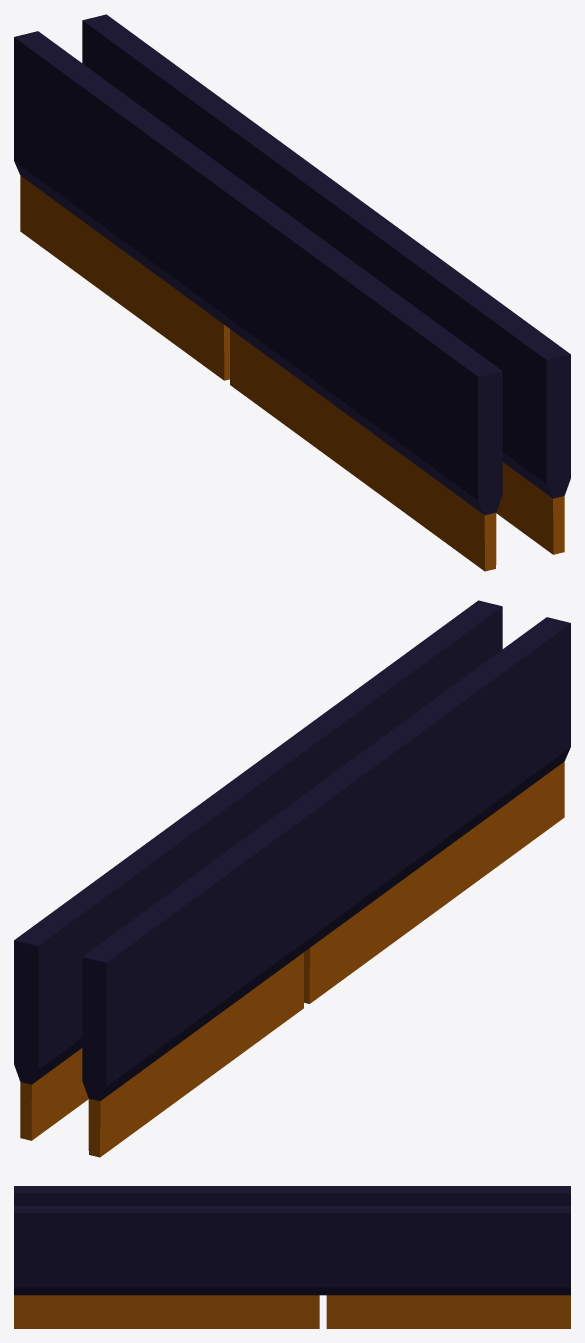
Rendered from Memory.glb.
3 renders of one model, top to bottom at view 1: azimuth 30°, elevation 25°; view 2: azimuth 150°, elevation 25°; view 3: azimuth 270°, elevation 25°, orthographic. The views are drawn at different scales.
Parts seen in each view (by area): view 1: Memory; view 2: Memory; view 3: Memory.
Part boxes in pixels (x1,y1,x2,y2): Memory: [14, 14, 570, 571]; Memory: [14, 600, 570, 1157]; Memory: [14, 1186, 570, 1328].
Bounding box in the file's own units: 0.4591 × 0.93 × 3.99.
